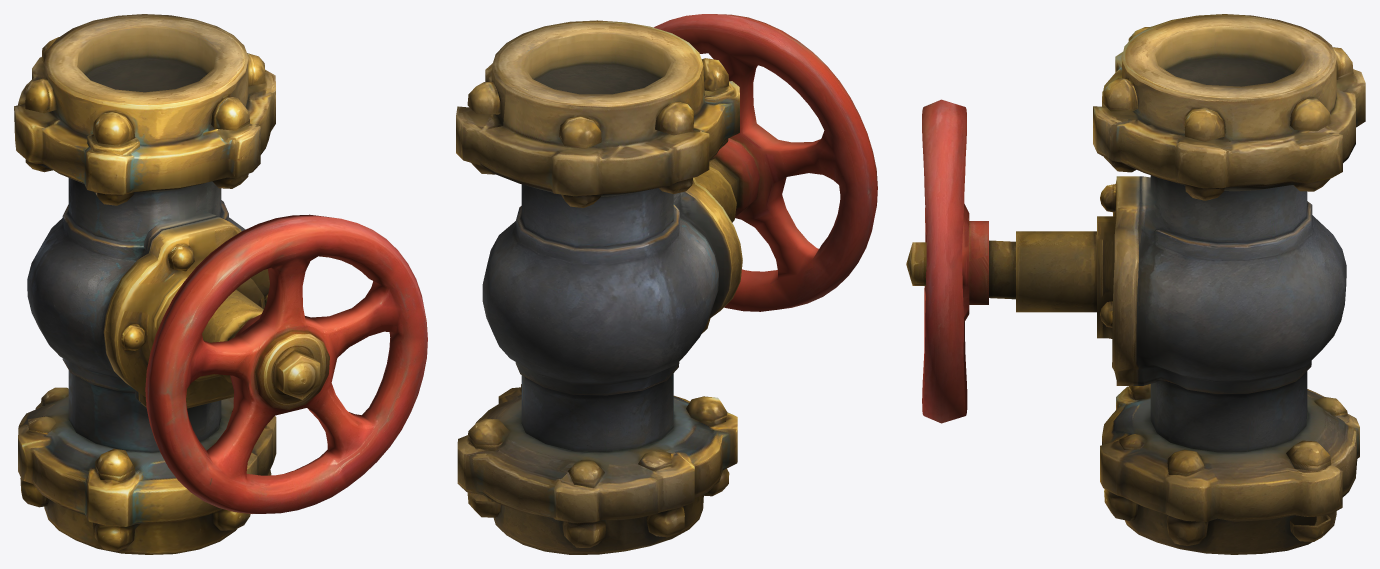
Rendered from steampunk_valve.glb.
3 views of the same model, side by side, from view 1: azimuth 30°, elevation 25°; view 2: azimuth 150°, elevation 25°; view 3: azimuth 270°, elevation 25° (orthographic).
Parts seen in each view (by area): view 1: tripo_part_40, tripo_part_36; view 2: tripo_part_40, tripo_part_36; view 3: tripo_part_40, tripo_part_36.
Boxes of the visible parts, <box> form: tripo_part_40: <box>14,14,276,554</box>; tripo_part_36: <box>145,214,427,513</box>; tripo_part_40: <box>456,20,742,554</box>; tripo_part_36: <box>654,14,877,311</box>; tripo_part_40: <box>1093,14,1365,554</box>; tripo_part_36: <box>906,99,1096,423</box>.
Size of the model in its own units: 0.6362 by 0.9995 by 0.9038.
2 materials, 2 textured.
